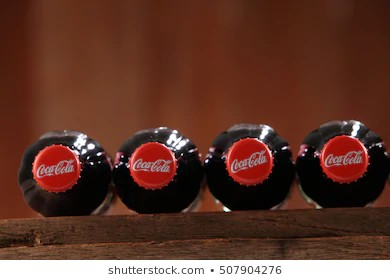coke-glass-bottle: (13, 124, 114, 217), (299, 117, 390, 209), (119, 121, 204, 217), (204, 124, 296, 212)
